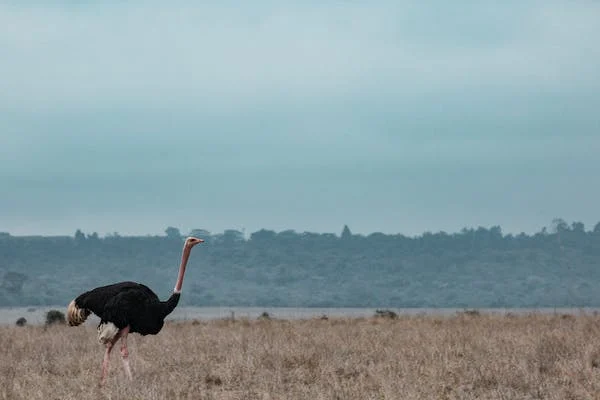Walking: (42, 223, 219, 393)
